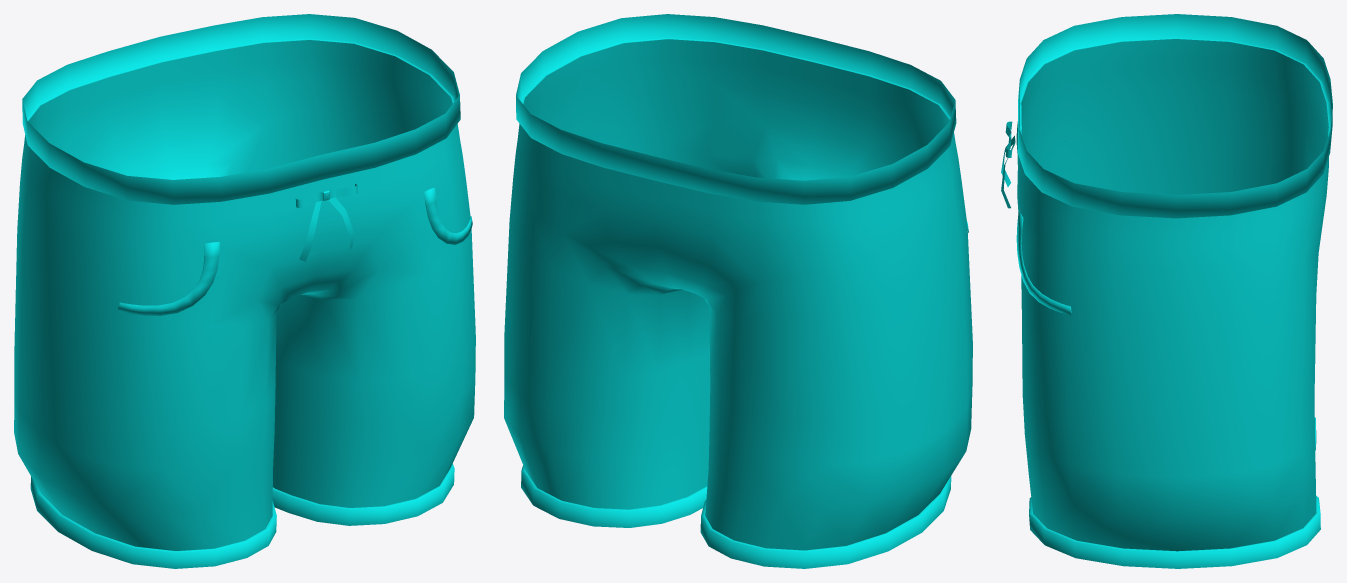
3 views of the same model, side by side, from view 1: azimuth 30°, elevation 25°; view 2: azimuth 150°, elevation 25°; view 3: azimuth 270°, elevation 25° (orthographic). The views are drawn at different scales.
Visible parts, largest first — view 1: P_G; view 2: P_G; view 3: P_G.
Boxes of the visible parts, x1,y1,x2,y2 form: P_G: (14, 14, 475, 568); P_G: (504, 14, 972, 568); P_G: (1001, 14, 1332, 568).
Size of the model in its own units: 112 by 102 by 80.97.
